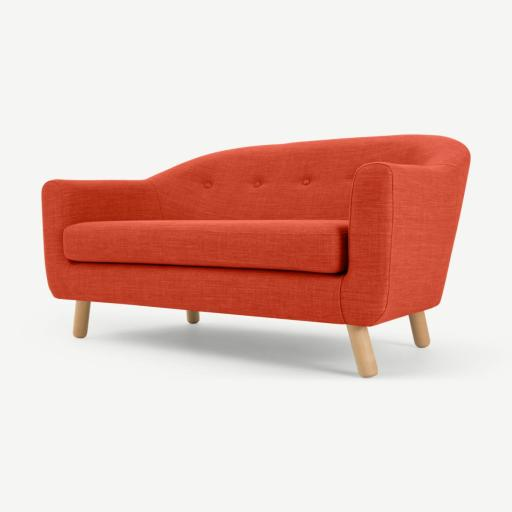back_cushion: (149, 136, 455, 219)
base: (56, 262, 344, 323)
left_arm: (340, 162, 465, 325)
legs: (347, 325, 377, 377), (409, 312, 429, 347), (73, 301, 91, 338), (187, 310, 199, 323)
one-seater: (0, 0, 511, 512)
right_arm: (42, 180, 163, 298)
seat_cushion: (64, 220, 348, 274)
